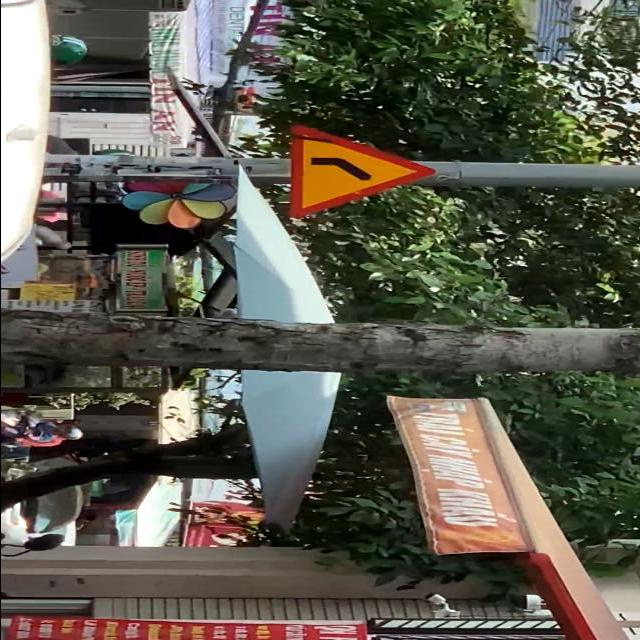W-201b: (286, 124, 434, 216)
